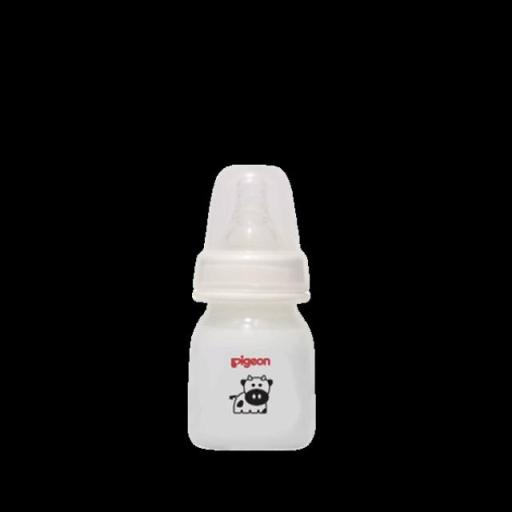plastic: (193, 165, 318, 449)
